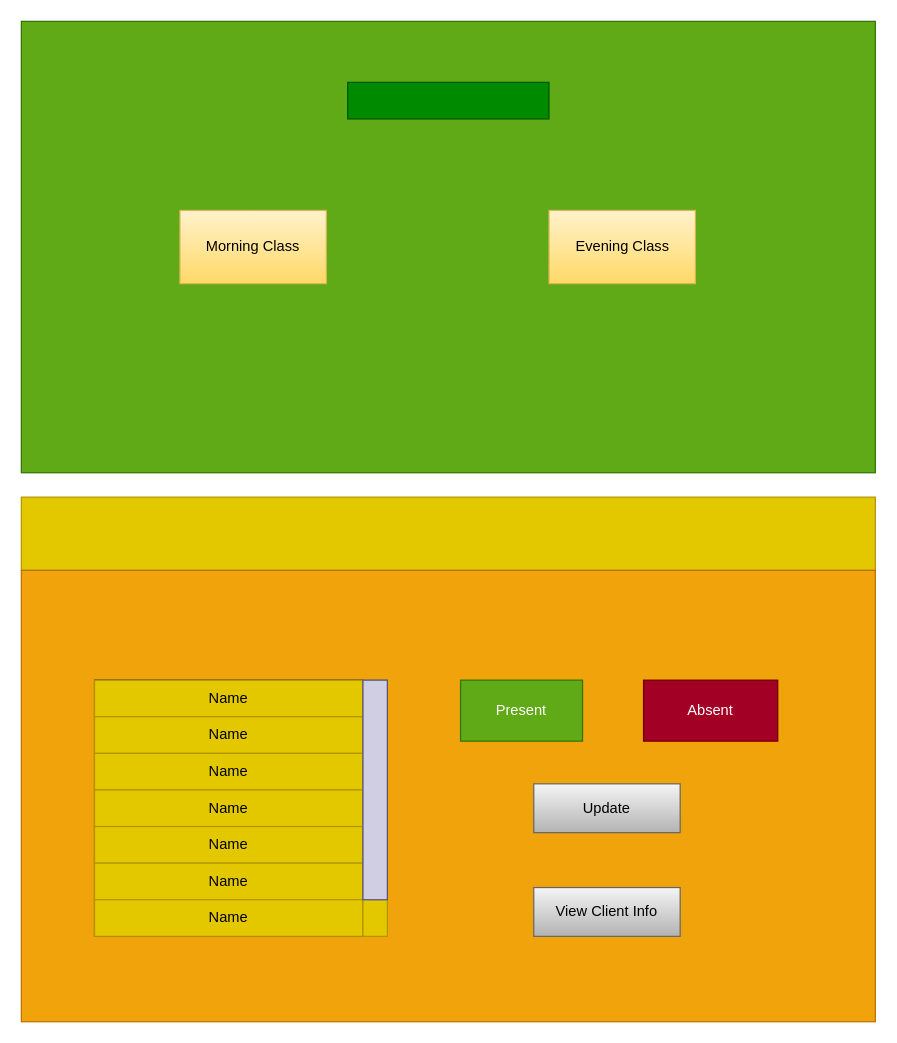
This 897x1043 diagram has some shape labels left out. The centre of each missing label's shape, as x and y in pixels:
"Attendance Portal - Morning Class" belongs at [447,533].
"Chose Class" belongs at [447,100].
